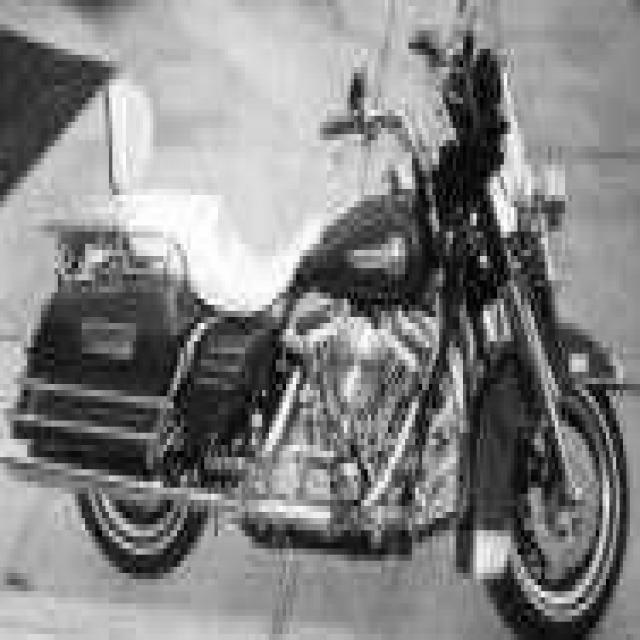Motorcycle: (1, 31, 626, 634)
